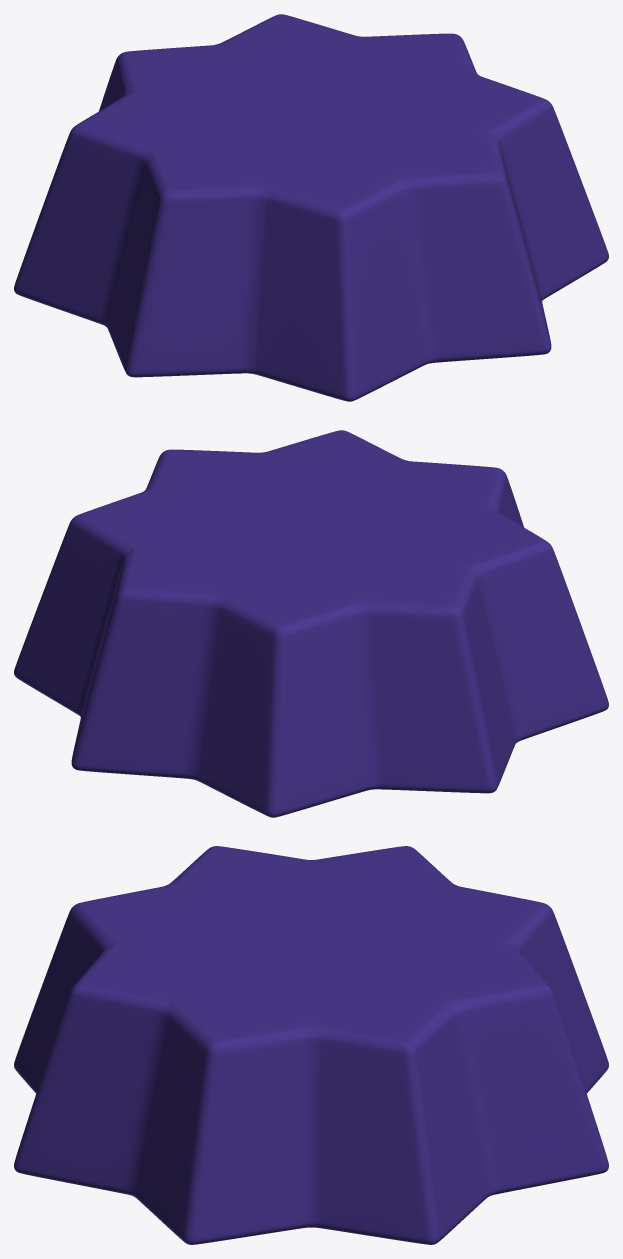
File: jello_high.fbx
The picture shows the model from 3 angles, top to bottom: view 1: azimuth 30°, elevation 25°; view 2: azimuth 150°, elevation 25°; view 3: azimuth 270°, elevation 25°; orthographic projection. The views are drawn at different scales.
Parts seen in each view (by area): view 1: jellohigh; view 2: jellohigh; view 3: jellohigh.
Part boxes in pixels (bbox=[...]): jellohigh: bbox=[14, 14, 608, 401]; jellohigh: bbox=[14, 430, 608, 817]; jellohigh: bbox=[14, 846, 608, 1244].
Size of the model in its own units: 47.36 by 15.75 by 47.36.
